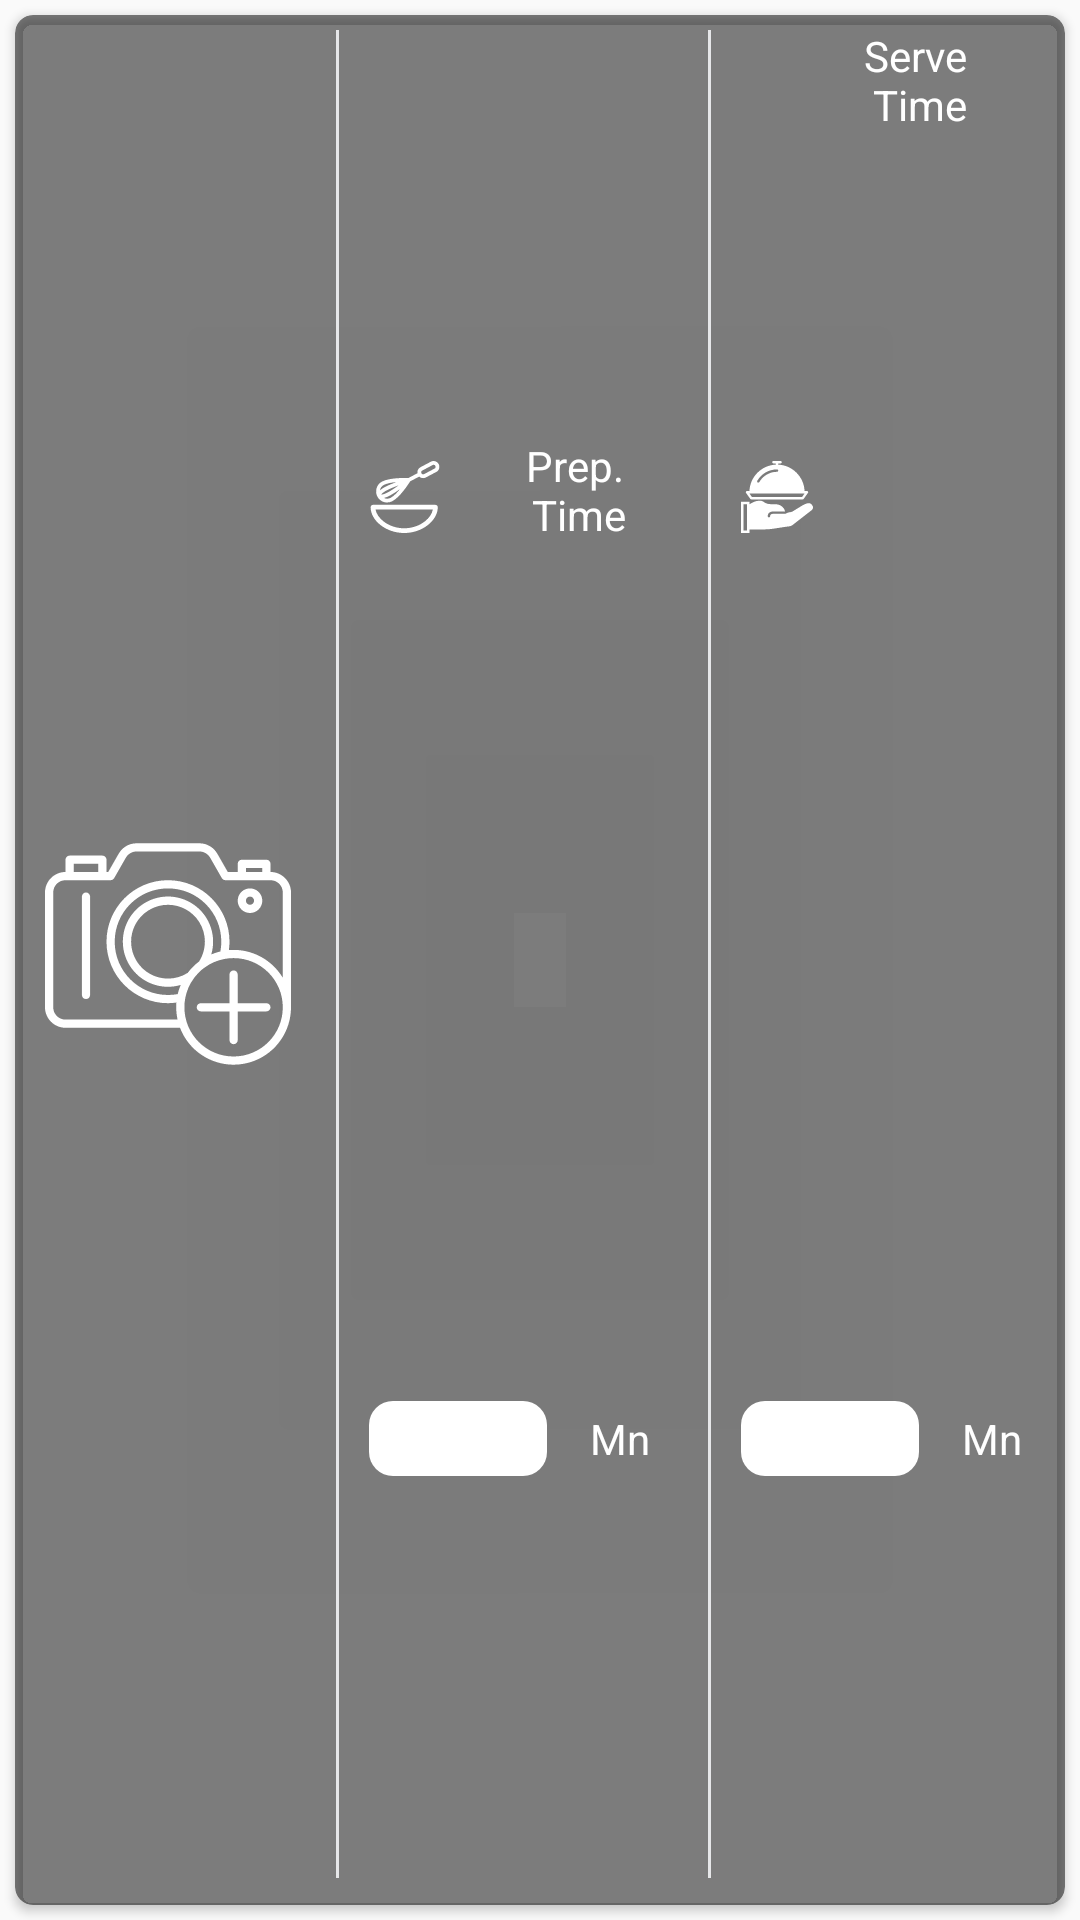

Locate icon controls on the screen. Image size 1080 x 1920, boxes as BBox(x1, y1, x2, y2).
camera: BBox(45, 843, 291, 1065)
meal: BBox(741, 461, 813, 533)
whisk and bowl: BBox(370, 461, 440, 533)
